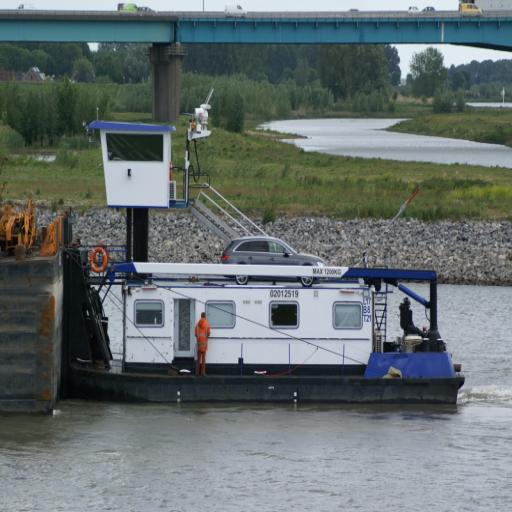tugboat: (56, 87, 472, 423)
